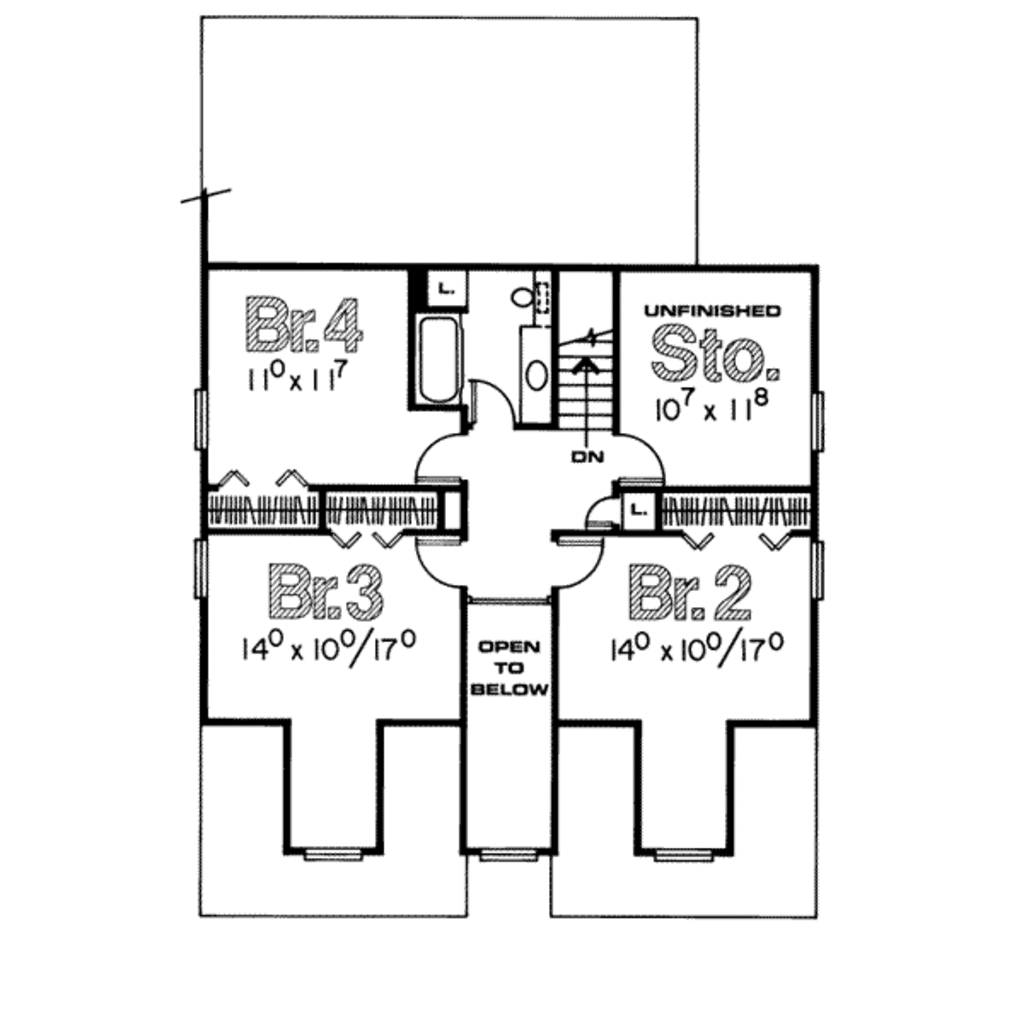door: (402, 527, 481, 595), (405, 412, 475, 485), (543, 530, 603, 595), (613, 430, 672, 479), (462, 384, 518, 432), (581, 492, 616, 528)
large_sink: (502, 258, 552, 322)
small_sink: (514, 332, 551, 424)
stairs: (545, 270, 632, 432)
tub: (416, 309, 460, 411)
window: (189, 381, 225, 454), (649, 839, 719, 873), (286, 835, 368, 863), (191, 543, 221, 614), (800, 535, 832, 601), (481, 839, 548, 870), (805, 393, 833, 454)
